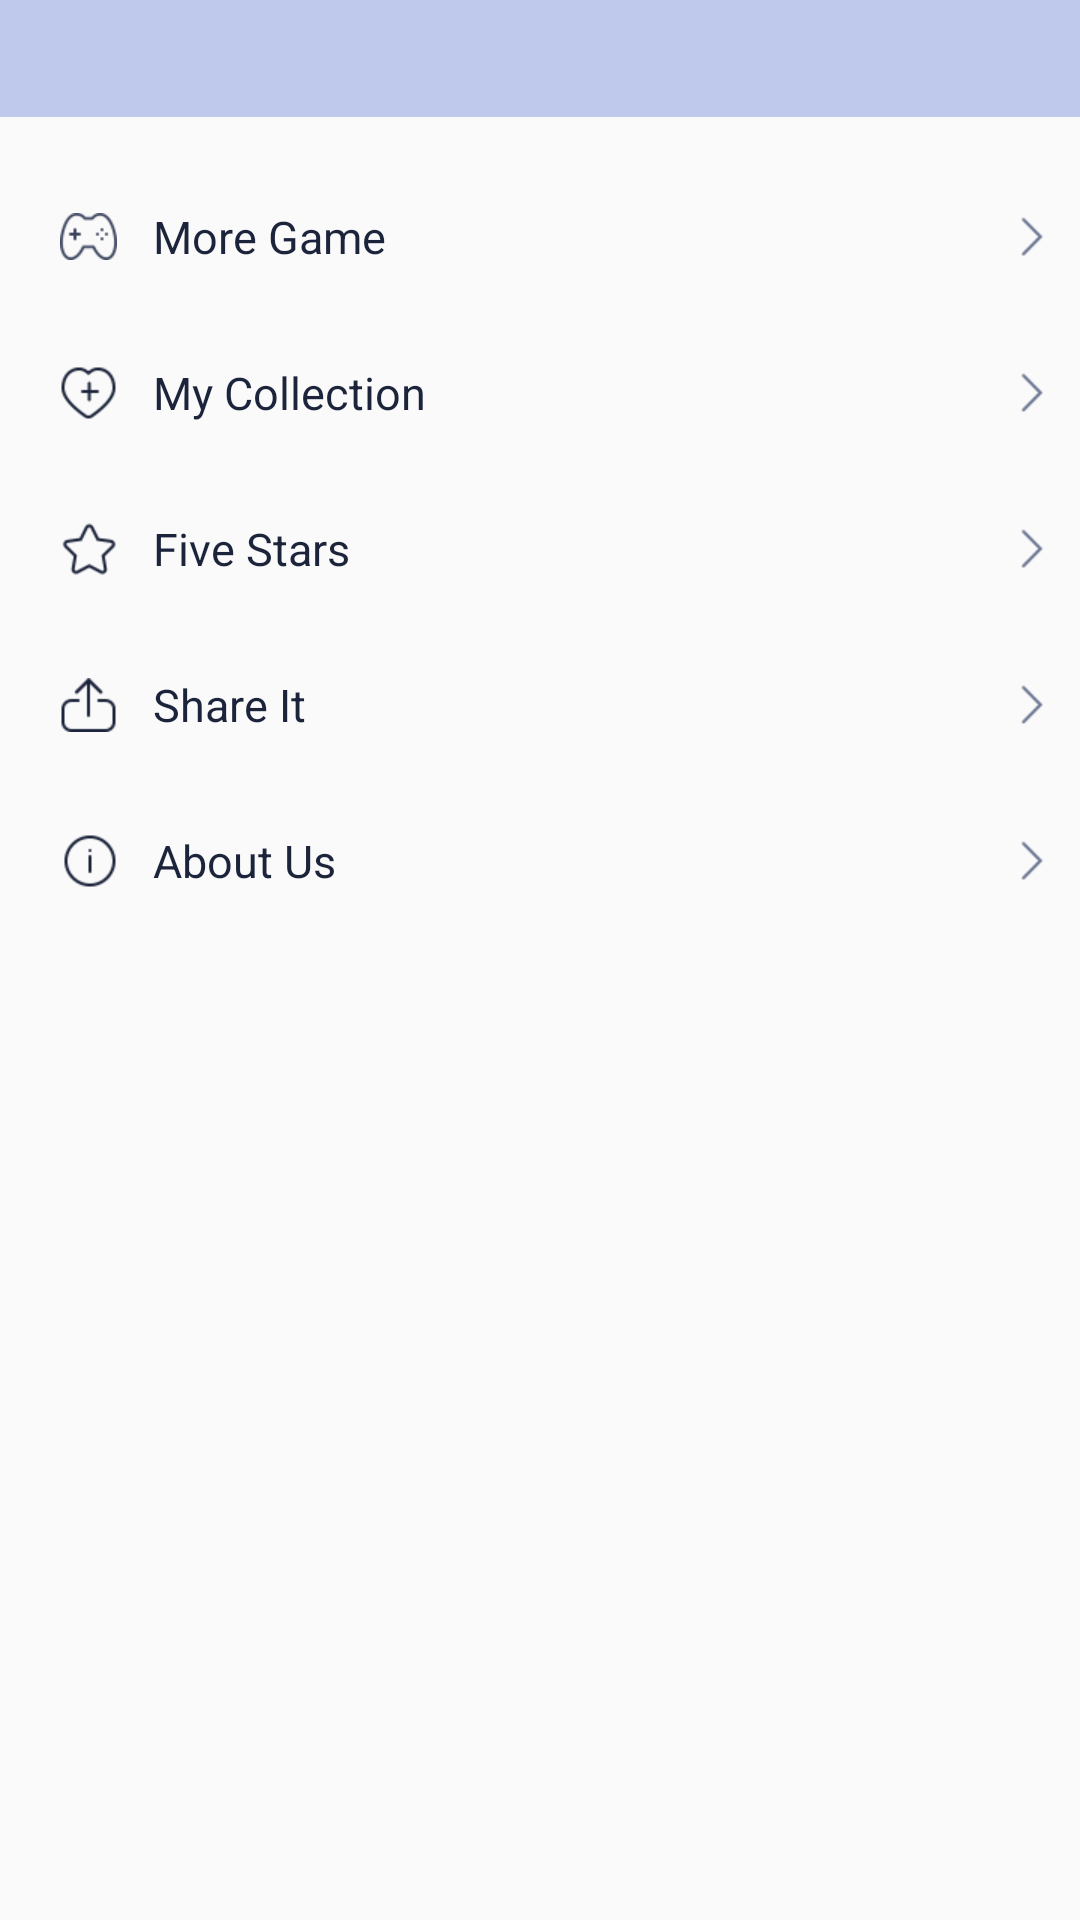

Icon click points for this 1080×1920 phone screenshot, format (x=x, y=y):
five star praise: (x=89, y=549)
info: (x=90, y=861)
